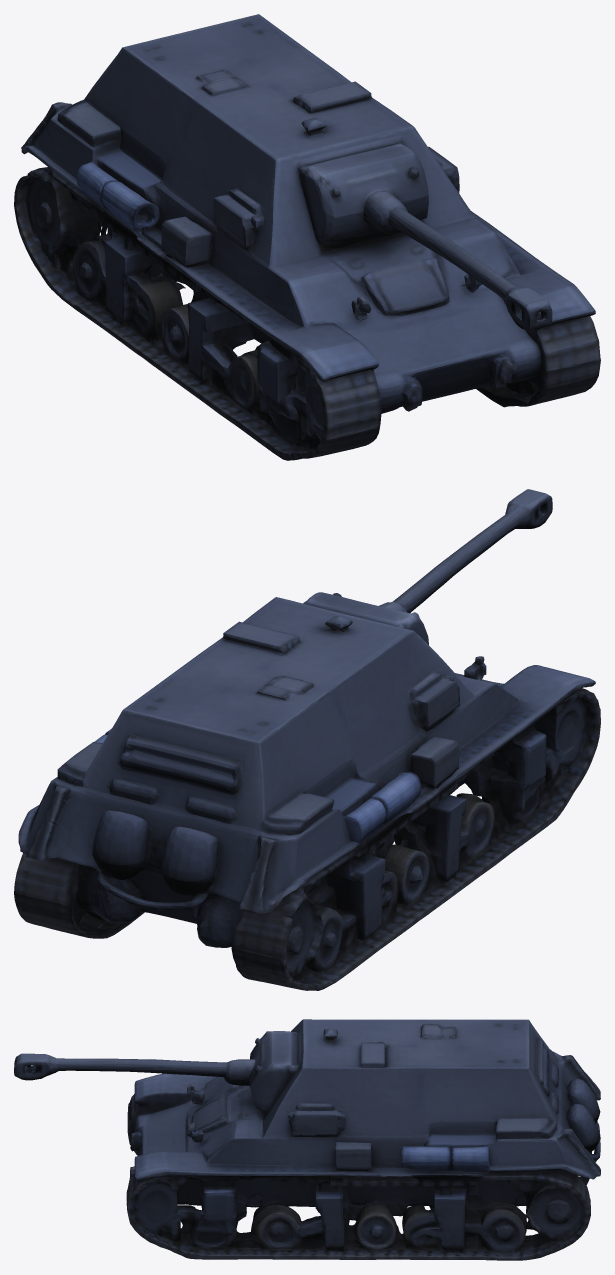
The model's file is m18_hellcat_enemy.glb.
3 renders of one model, top to bottom at view 1: azimuth 30°, elevation 25°; view 2: azimuth 150°, elevation 25°; view 3: azimuth 270°, elevation 25°, orthographic. The views are drawn at different scales.
Parts seen in each view (by area): view 1: world; view 2: world; view 3: world.
Part boxes in pixels (box(x1,y1,x2,y2)): world: box(14, 14, 600, 460); world: box(14, 489, 600, 990); world: box(14, 1019, 600, 1260).
Size of the model in its own units: 0.4155 by 0.3362 by 1.
Materials: 1 (1 with a texture image).
